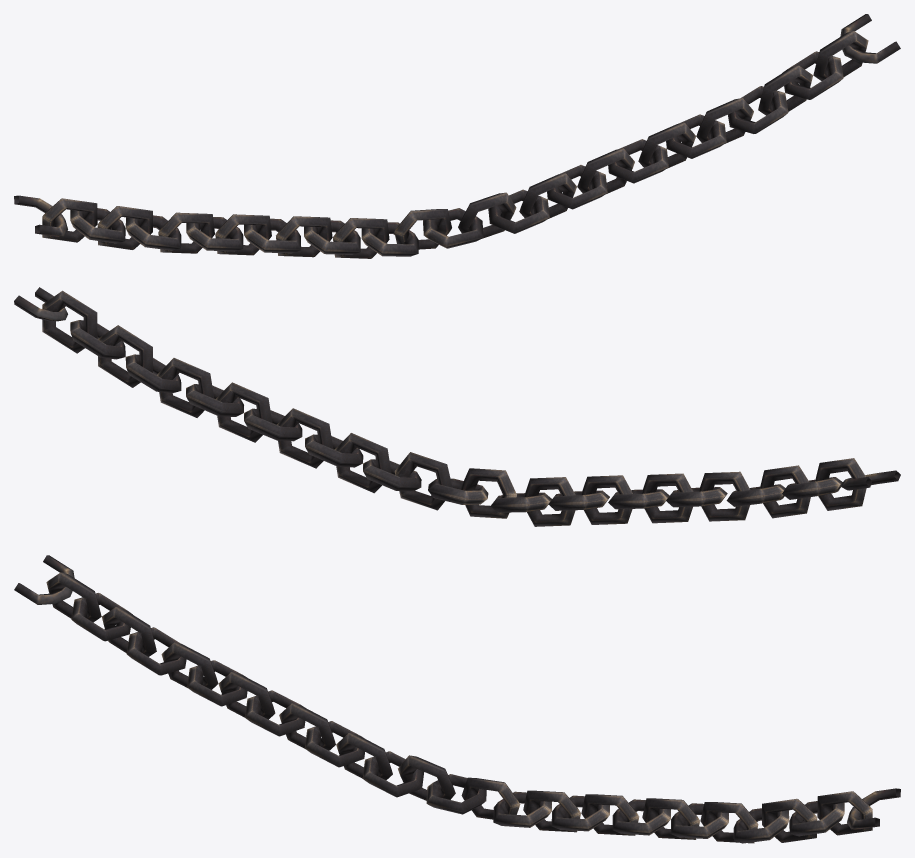
The model's file is 6002_Item_tielian01.FBX.
The picture shows the model from 3 angles, top to bottom: view 1: azimuth 30°, elevation 25°; view 2: azimuth 150°, elevation 25°; view 3: azimuth 330°, elevation 25°; orthographic projection.
Visible parts, largest first — view 1: 6002_Item_tielian01; view 2: 6002_Item_tielian01; view 3: 6002_Item_tielian01.
Boxes of the visible parts, x1,y1,x2,y2 form: 6002_Item_tielian01: (14, 14, 900, 258); 6002_Item_tielian01: (14, 287, 900, 526); 6002_Item_tielian01: (14, 555, 900, 843).
Size of the model in its own units: 324 by 53.2 by 19.95.
